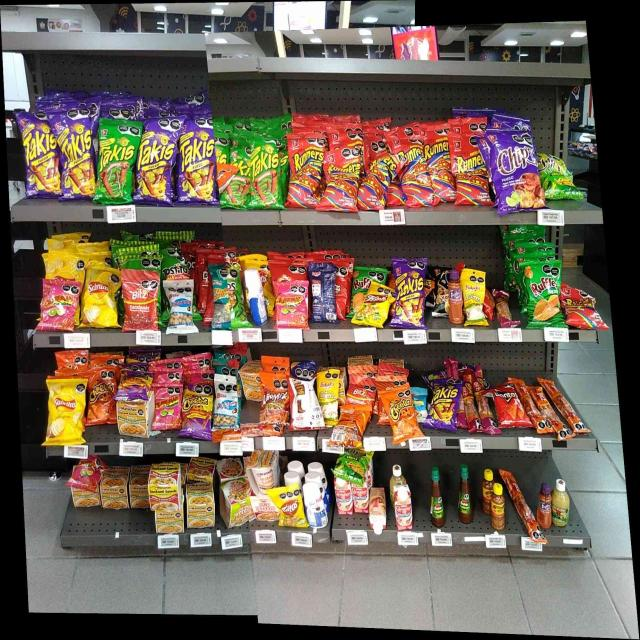bitzEnchilado90: (123, 275, 157, 330)
bitzEnchilado95: (527, 380, 585, 435), (507, 477, 535, 533), (242, 424, 281, 435)
bitzHabanero: (477, 373, 491, 431), (464, 374, 475, 431), (496, 290, 512, 326)
botaneraChilito: (492, 483, 505, 531), (481, 468, 490, 514)
cheetosFlaminHot: (184, 388, 212, 438), (122, 370, 150, 399)
cheetosOriginal: (89, 372, 115, 423), (391, 391, 414, 437)
chipsFuego: (495, 131, 539, 210)
chipsPapatinas: (542, 154, 577, 200), (340, 451, 367, 479)
churrumais: (43, 280, 75, 332), (277, 283, 307, 326), (155, 386, 181, 429), (74, 458, 98, 486)
delPrimoSalsa: (552, 478, 570, 526)
doritosNacho: (495, 385, 525, 427)
fritosLimon: (277, 489, 303, 526), (364, 288, 389, 326)
leoCacahuates: (169, 283, 192, 331), (216, 374, 237, 426)
leoMix: (261, 376, 287, 420)
maruchanPollo: (186, 484, 215, 528), (118, 402, 150, 436), (102, 471, 128, 509), (248, 452, 276, 487), (130, 464, 148, 508), (155, 511, 185, 533)
maruchanRes: (149, 464, 181, 509)
nestleCarnation: (395, 485, 412, 529), (371, 488, 386, 532), (335, 482, 352, 514), (353, 486, 368, 513)
nestleLechera: (247, 268, 266, 324), (305, 484, 327, 527)
nissinCamaron: (221, 482, 246, 526)
nissinRes: (251, 496, 276, 520)
productoAtras: (291, 378, 317, 429), (314, 265, 334, 321), (340, 408, 366, 444)
rufflesQueso: (524, 263, 560, 326), (352, 268, 362, 317)
runners: (289, 138, 321, 204), (457, 136, 486, 204), (324, 151, 357, 209), (401, 136, 426, 206), (429, 135, 454, 203), (363, 154, 393, 209), (565, 286, 601, 330)
sabritasOriginal: (49, 380, 81, 443), (86, 271, 117, 326)
salsaBufalo: (430, 467, 445, 527), (458, 464, 472, 524)
semillasCalabaza: (464, 276, 484, 324), (321, 377, 338, 422)
semillasGirasol: (212, 266, 229, 328)
tajinDulce: (449, 270, 463, 324), (537, 483, 551, 527)
takisFuego: (180, 123, 214, 206), (23, 113, 56, 196), (139, 121, 172, 204), (60, 114, 92, 199), (396, 259, 424, 328), (432, 381, 456, 430)
takisOriginal: (98, 122, 132, 202), (250, 138, 281, 207), (225, 148, 248, 208)
tostitos: (163, 254, 191, 280)
